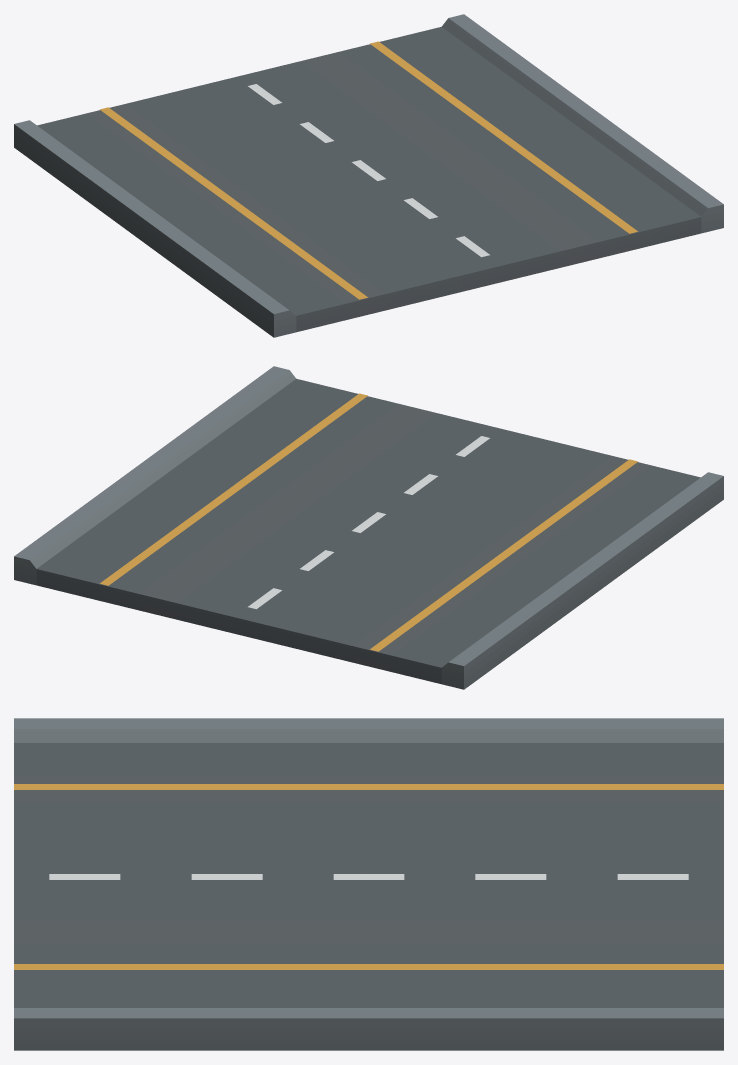
The model's file is road.glb.
3 views of the same model, one above another, from view 1: azimuth 30°, elevation 25°; view 2: azimuth 150°, elevation 25°; view 3: azimuth 270°, elevation 25° (orthographic). The views are drawn at different scales.
Parts seen in each view (by area): view 1: road_straight; view 2: road_straight; view 3: road_straight.
Part boxes in pixels (x1=…): road_straight: x1=14, y1=14, x2=723, y2=337; road_straight: x1=14, y1=366, x2=723, y2=689; road_straight: x1=14, y1=718, x2=723, y2=1050.
Bounding box in the file's own units: 8 × 0.4004 × 8.
Materials: 1 (1 with a texture image).
